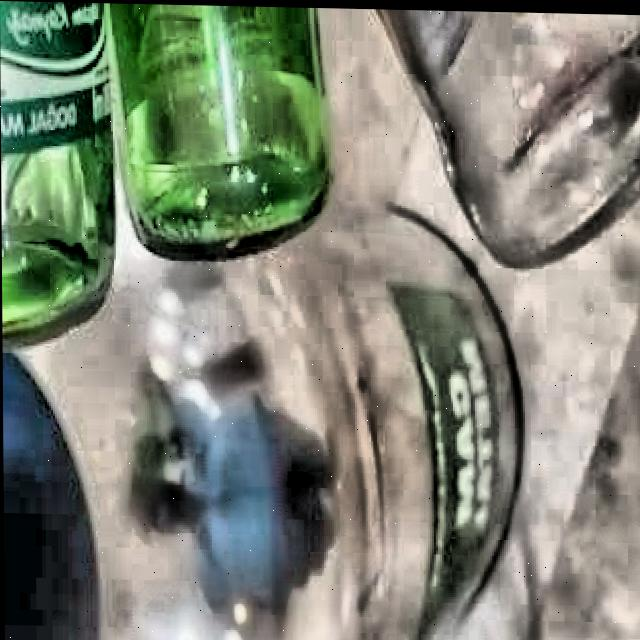glass: (0, 0, 332, 348)
